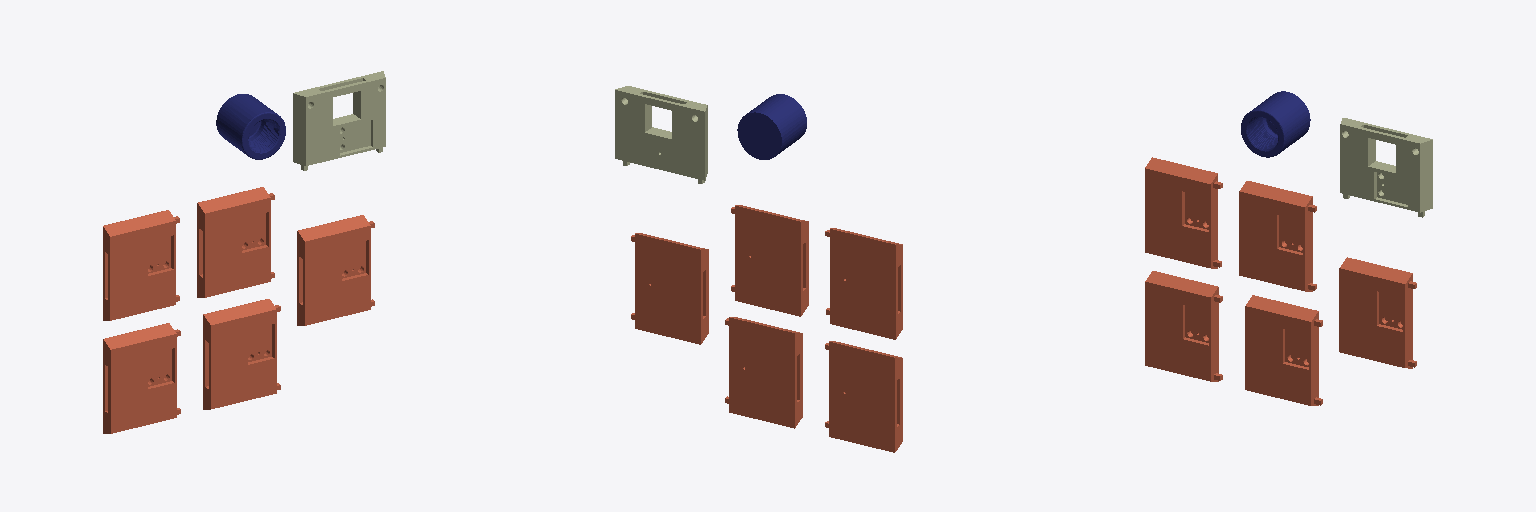
File: tinker.obj
3 renders of one model, left to right at view 1: azimuth 30°, elevation 25°; view 2: azimuth 150°, elevation 25°; view 3: azimuth 330°, elevation 25°, orthographic.
Parts seen in each view (by area): view 1: obj_0; view 2: obj_0; view 3: obj_0.
Boxes of the visible parts, box(x1,y1,x2,y2) form: obj_0: box(103, 71, 385, 433); obj_0: box(615, 86, 902, 452); obj_0: box(1145, 91, 1432, 405).
Size of the model in its own units: 140 by 146 by 22.3.